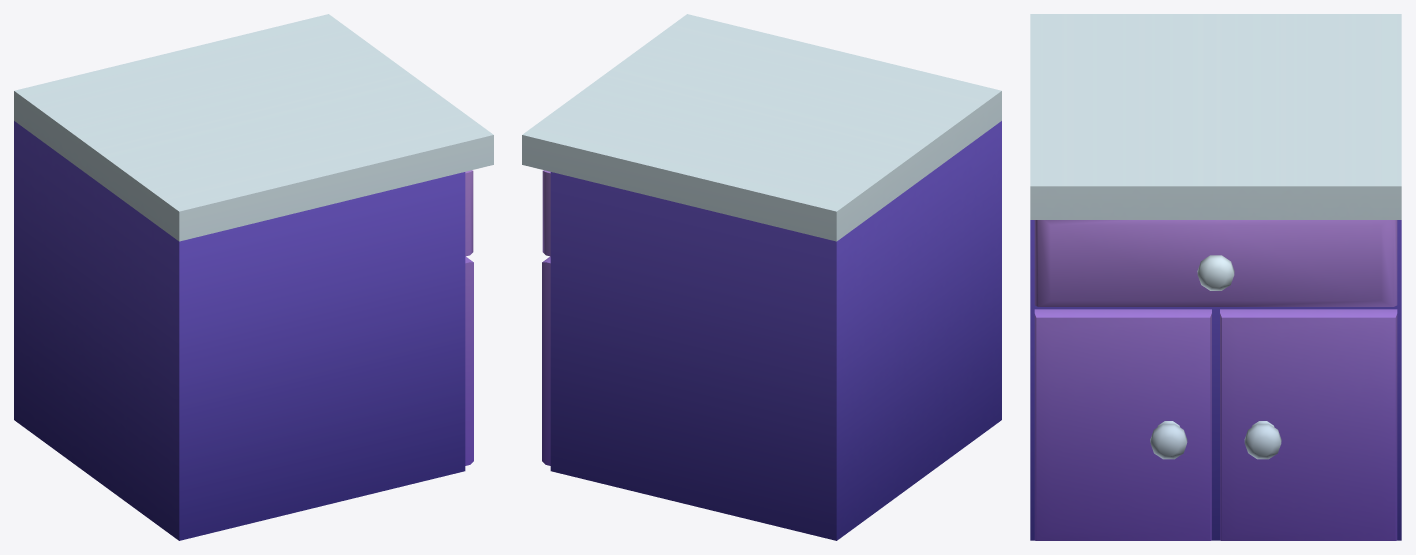
File: Counter.fbx
The picture shows the model from 3 angles, left to right: view 1: azimuth 30°, elevation 25°; view 2: azimuth 150°, elevation 25°; view 3: azimuth 270°, elevation 25°; orthographic projection. The views are drawn at different scales.
Parts seen in each view (by area): view 1: Cube.005; view 2: Cube.005; view 3: Cube.005.
Part boxes in pixels (x1,y1,x2,y2): Cube.005: [14, 14, 493, 540]; Cube.005: [522, 14, 1001, 540]; Cube.005: [1030, 14, 1401, 540].
Size of the model in its own units: 114 by 110 by 100.
